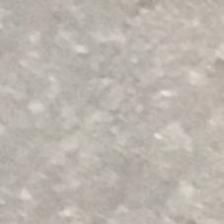Non_Crack: (24, 14, 224, 224)
